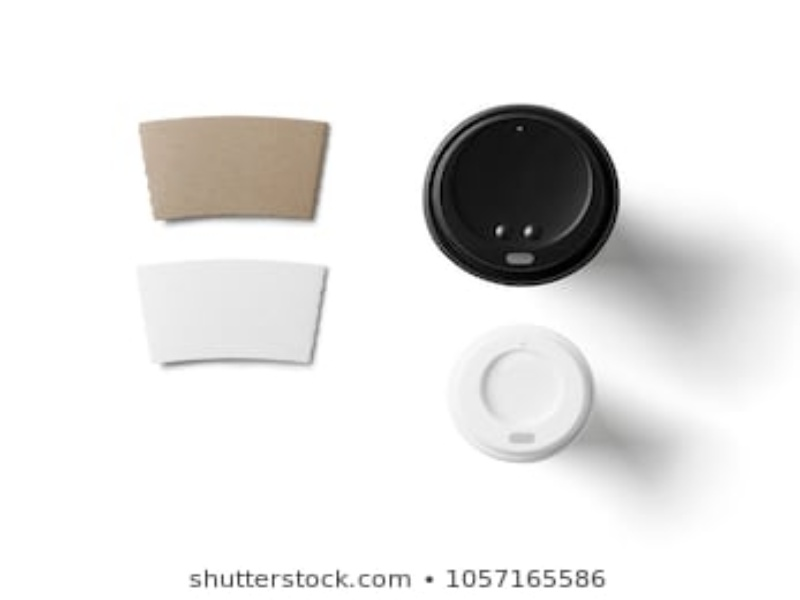coffee-lid: (426, 102, 618, 292), (448, 323, 600, 465)
